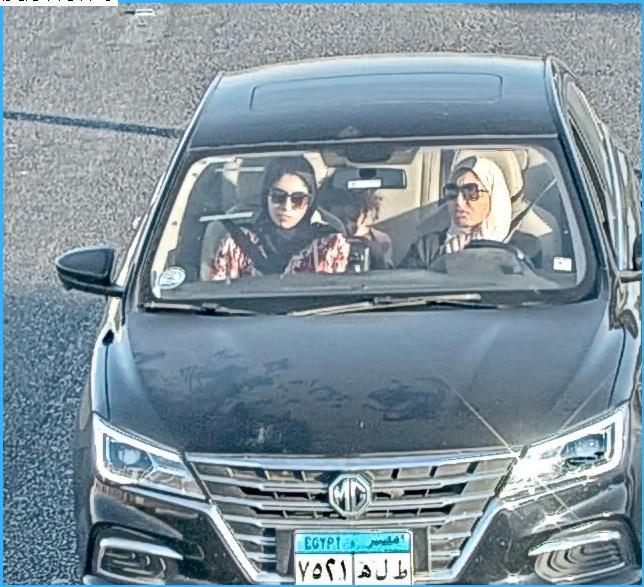windshield: (129, 117, 614, 317)
